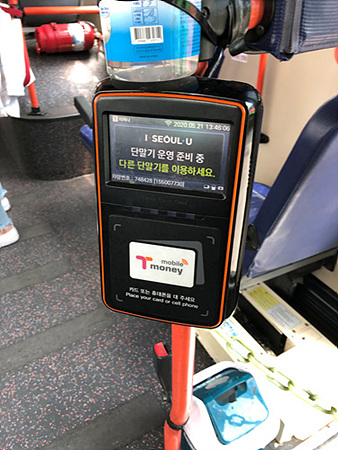terminal: (98, 82, 239, 322)
